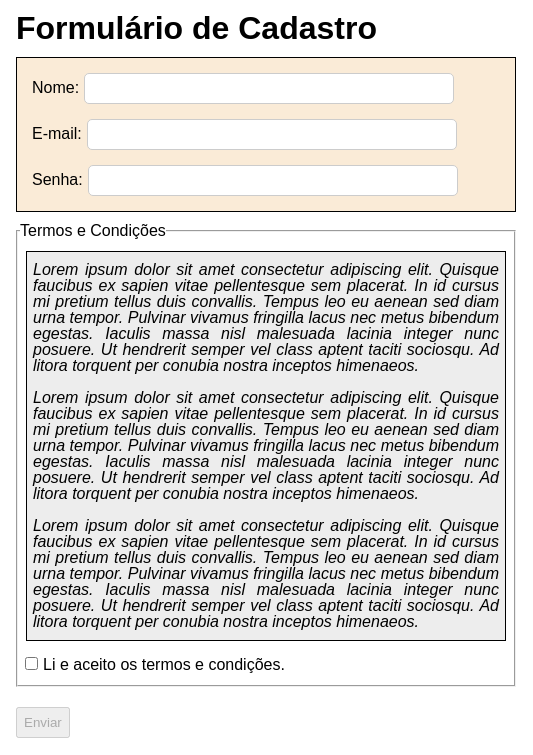
Test: form › button › should send button not be disabled when fill out the form correctly
Type "Usuário Teste" into the field with test id "input-name" at {"x": 269, "y": 88}, box [84,73,454,104]
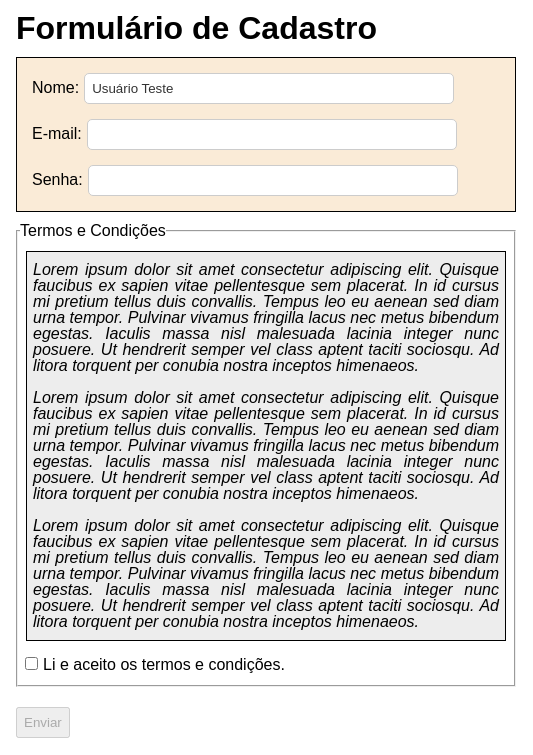
Type "teste@teste.com" into the field with test id "input-email" at {"x": 272, "y": 134}, box [87,119,457,150]
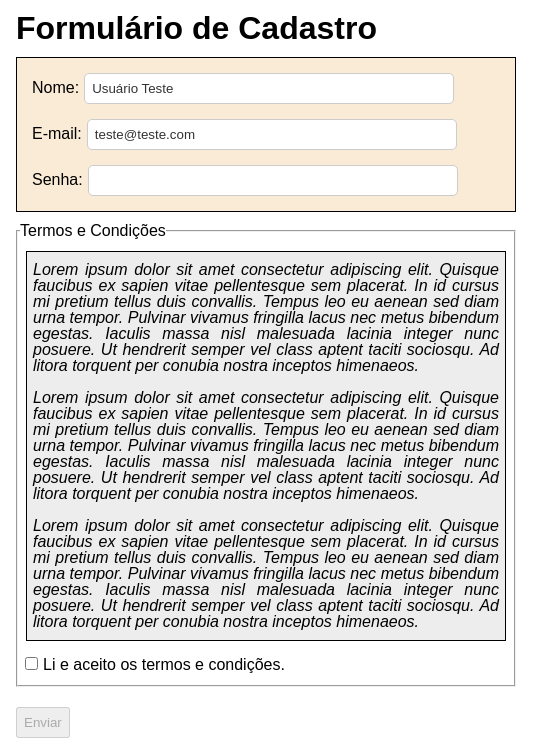
Type "teste12345" into the password field with test id "input-password" at {"x": 273, "y": 180}, box [88,165,458,196]
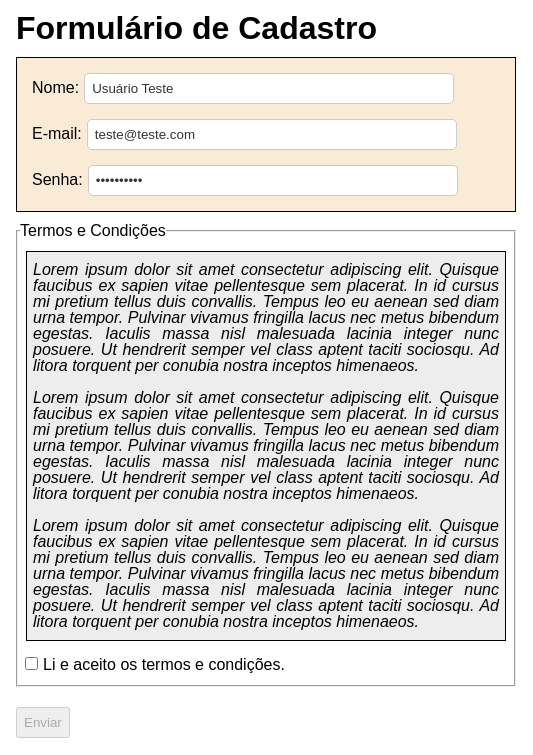
Click the checkbox with test id "input-terms" at {"x": 32, "y": 664}, box [25,657,38,670]
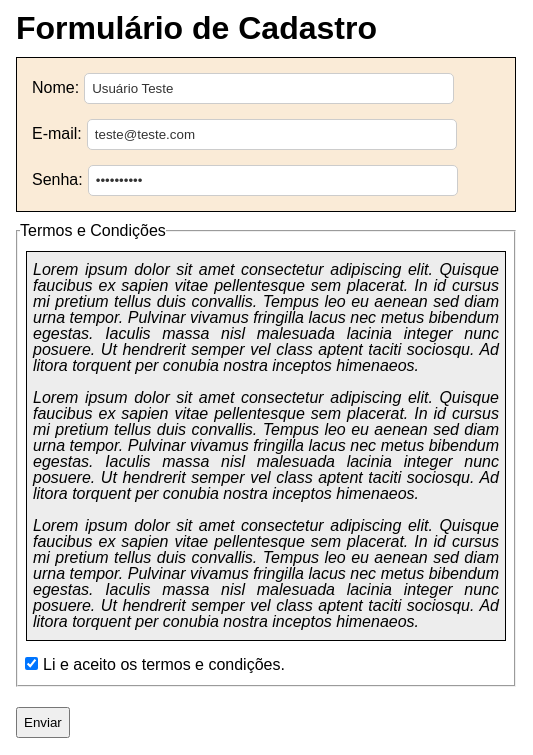
Expected: the button with test id "button-submit" is enabled, [16,707,70,738]
